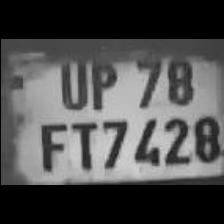2: (158, 112, 190, 166)
4: (128, 112, 160, 166)
7: (128, 50, 160, 108), (96, 113, 128, 171)
8: (162, 53, 196, 105), (190, 110, 220, 166)
F: (33, 117, 69, 173)
P: (86, 52, 118, 110)
T: (66, 117, 97, 172)
U: (54, 49, 88, 110)
